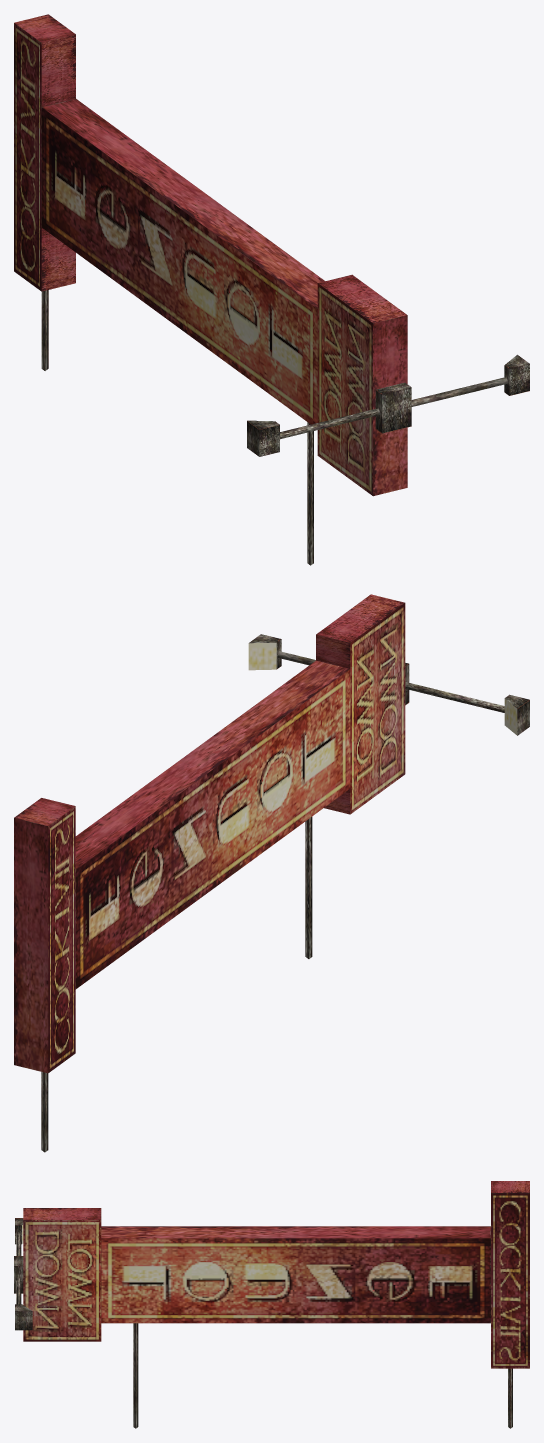
The model's file is bar_lounge.fbx.
3 renders of one model, top to bottom at view 1: azimuth 30°, elevation 25°; view 2: azimuth 150°, elevation 25°; view 3: azimuth 270°, elevation 25°, orthographic. The views are drawn at different scales.
Parts seen in each view (by area): view 1: mesh_0; view 2: mesh_0; view 3: mesh_0.
Part boxes in pixels (x1,y1,x2,y2): mesh_0: (14,14,529,565); mesh_0: (14,594,529,1152); mesh_0: (14,1181,529,1428).
Size of the model in its own units: 235 by 283 by 551.
1 material, 1 textured.
